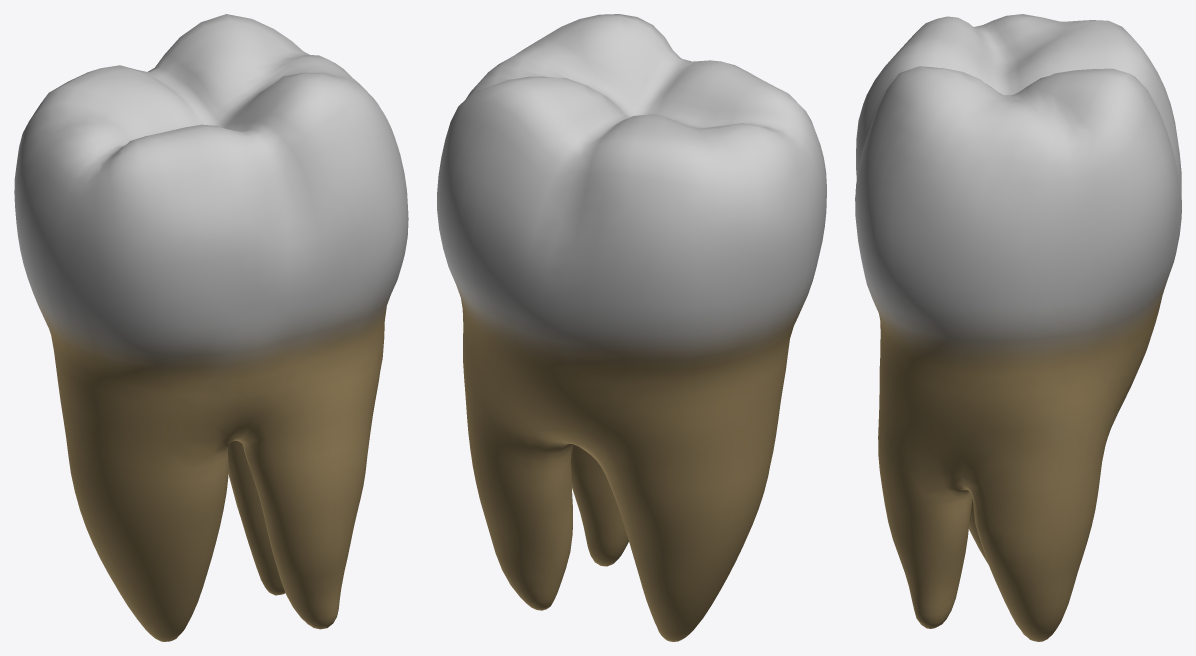
File: tooth.glb
The picture shows the model from 3 angles, left to right: view 1: azimuth 30°, elevation 25°; view 2: azimuth 150°, elevation 25°; view 3: azimuth 270°, elevation 25°; orthographic projection.
Visible parts, largest first — view 1: Third_Molar_WN_UV:Group50179; view 2: Third_Molar_WN_UV:Group50179; view 3: Third_Molar_WN_UV:Group50179.
Boxes of the visible parts, x1=… form: Third_Molar_WN_UV:Group50179: x1=14, y1=14, x2=408, y2=641; Third_Molar_WN_UV:Group50179: x1=437, y1=14, x2=826, y2=641; Third_Molar_WN_UV:Group50179: x1=855, y1=14, x2=1181, y2=641.
Size of the model in its own units: 0.0151 by 0.0238 by 0.0124.
1 material, 1 textured.
